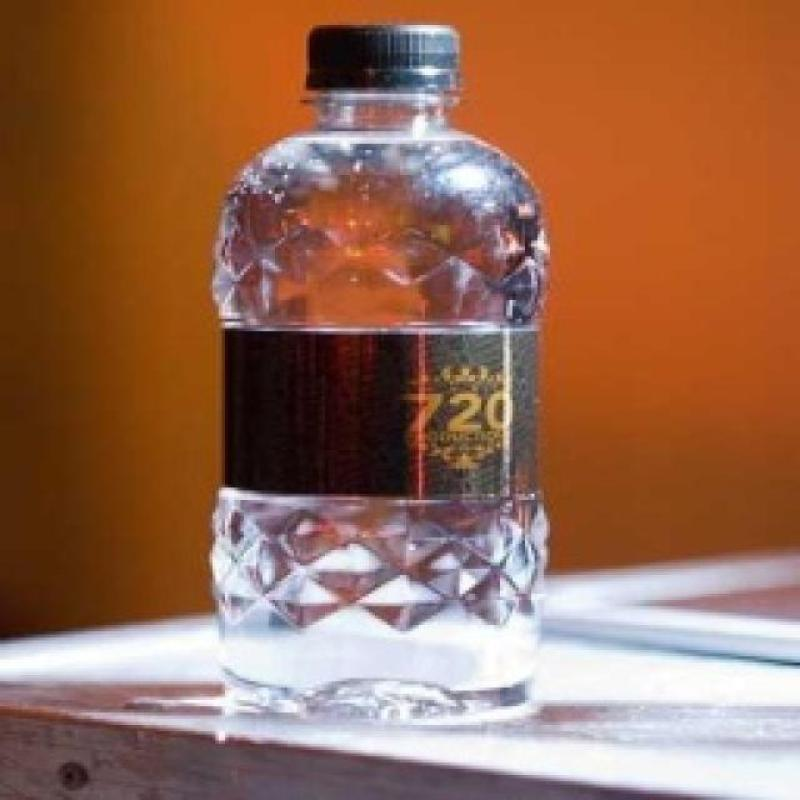botella: (205, 22, 555, 716)
